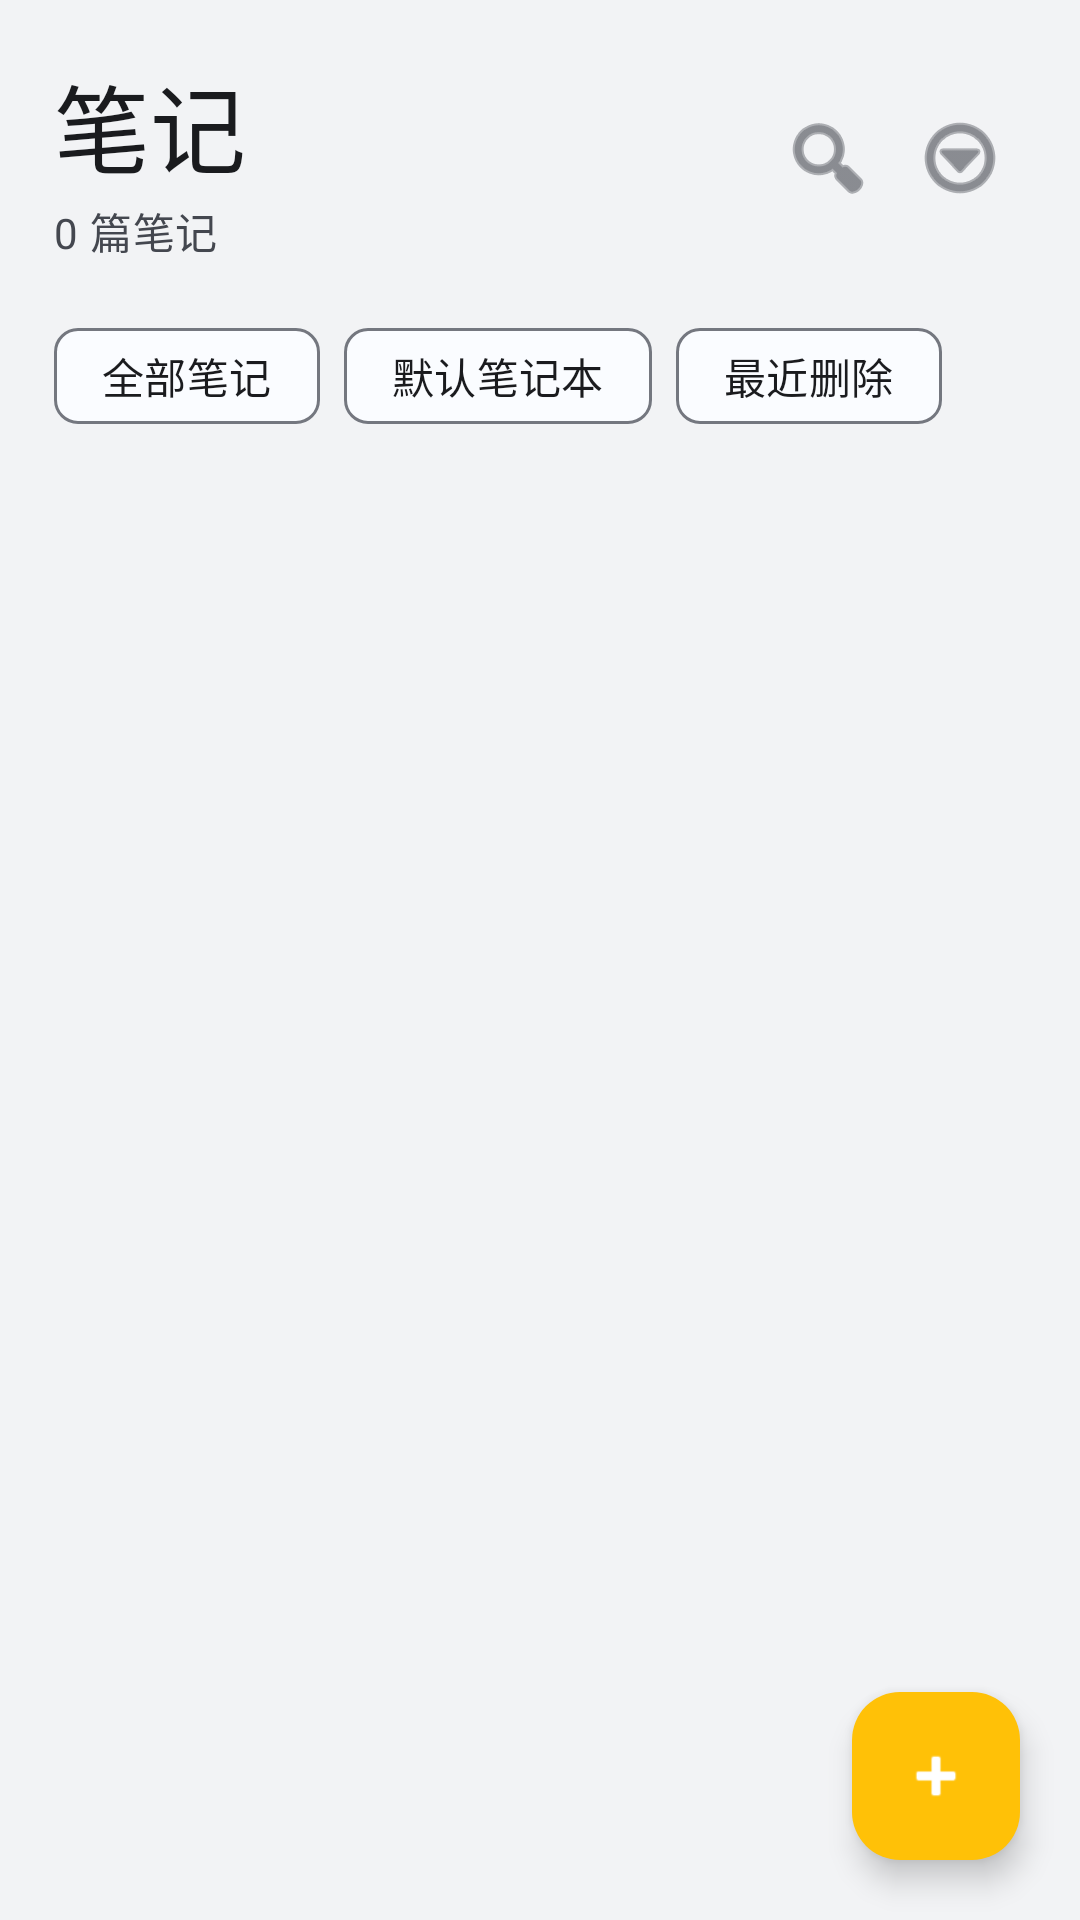

Where to tap for icons on this 1080*1920 app screen, as [x,y]:
搜索: [828,158]
新增笔记: [936,1776]
更多: [960,158]
